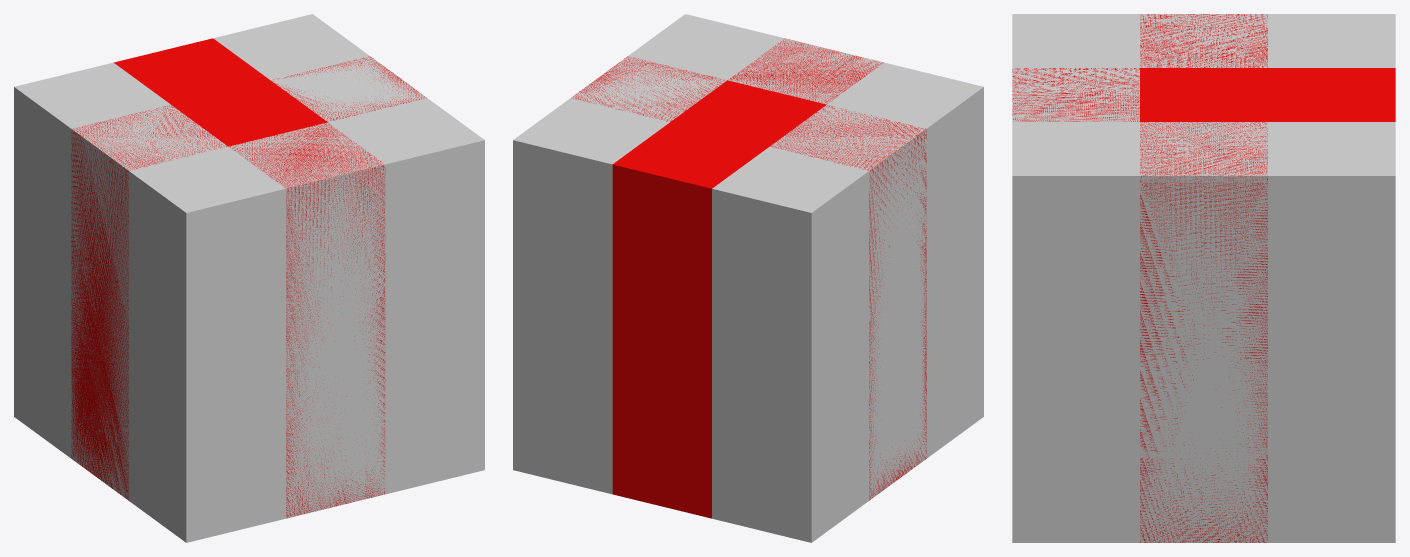
The model's file is 3DTiles.FBX.
3 views of the same model, side by side, from view 1: azimuth 30°, elevation 25°; view 2: azimuth 150°, elevation 25°; view 3: azimuth 270°, elevation 25° (orthographic). The views are drawn at different scales.
Visible parts, largest first — view 1: WallU, WallX; view 2: WallU, WallX; view 3: WallU, WallX.
Part boxes in pixels (<box>): WallU: <box>14,14,484,542</box>; WallX: <box>14,14,484,542</box>; WallU: <box>513,14,983,542</box>; WallX: <box>513,14,983,542</box>; WallU: <box>1012,14,1395,542</box>; WallX: <box>1012,14,1395,542</box>.
Size of the model in its own units: 500 by 528 by 500.
